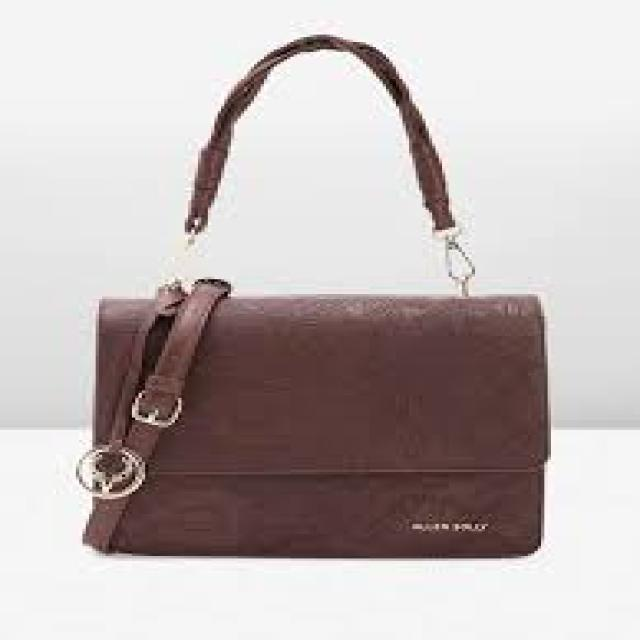handbag: (76, 32, 551, 559)
